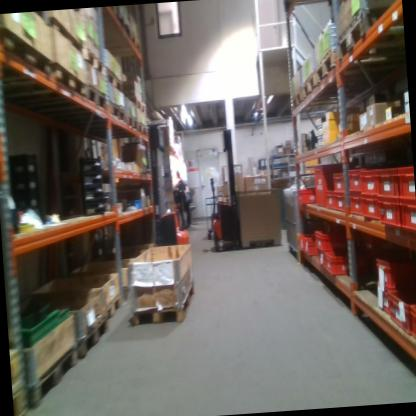pallet: (333, 10, 406, 67), (26, 346, 80, 408), (0, 33, 54, 88), (131, 281, 196, 326), (72, 316, 112, 363), (47, 63, 89, 104), (73, 83, 108, 120), (316, 46, 343, 87), (96, 291, 126, 324), (79, 47, 106, 79), (300, 70, 319, 108), (104, 101, 127, 128), (106, 65, 124, 94), (287, 89, 302, 121), (117, 12, 132, 42), (125, 97, 146, 115), (128, 27, 139, 59), (121, 116, 139, 132), (137, 128, 147, 139)
pallet_truck: (204, 117, 247, 254), (148, 117, 190, 248)
small_load_carrier: (377, 252, 416, 291), (315, 164, 346, 207), (325, 251, 370, 279), (391, 292, 416, 337), (348, 166, 384, 193), (376, 166, 400, 202), (315, 228, 346, 254), (379, 199, 402, 233), (398, 167, 416, 204), (376, 281, 390, 322), (401, 199, 416, 235), (361, 170, 379, 197), (363, 196, 380, 221), (348, 191, 364, 217), (298, 232, 318, 250), (334, 172, 347, 194), (299, 189, 316, 205), (411, 302, 416, 350), (325, 190, 337, 210), (336, 192, 347, 211), (315, 248, 325, 266), (305, 239, 316, 254)
stillage: (234, 188, 284, 251), (283, 189, 300, 257)
